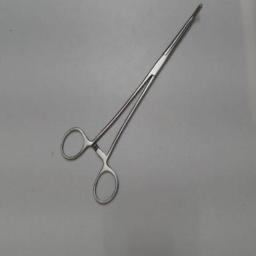Lahey Forceps: (58, 0, 208, 210)
